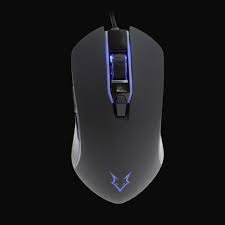mouse: (67, 17, 173, 212)
